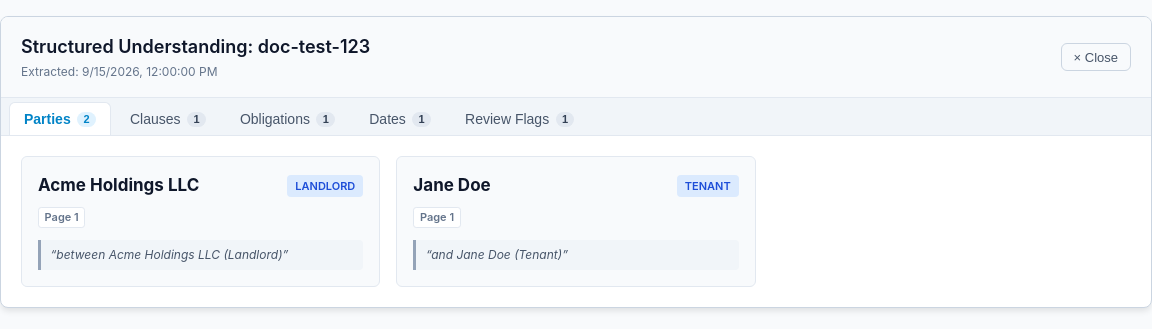
Test: DocumentUnderstandingView Component › switches tabs to Clauses and displays categorized clause cards
Click the tab "Clauses 1": (168, 119) [115, 102, 221, 135]
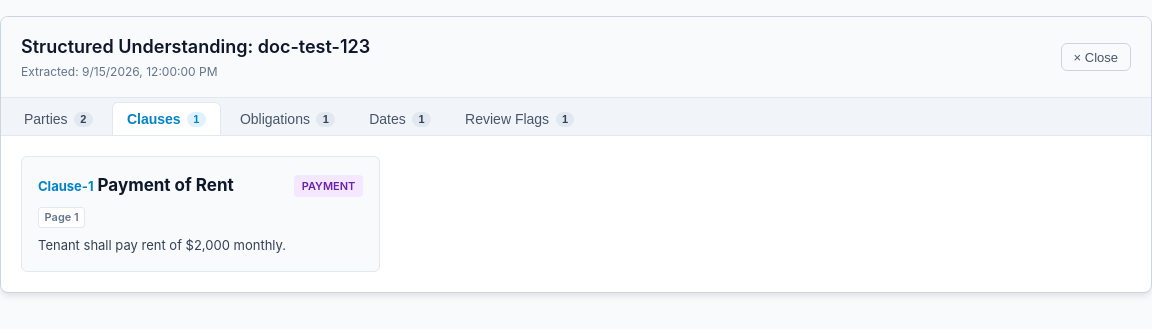
expect the heading "Clause-1 Payment of Rent" is shown: met, box [38, 173, 234, 199]
expect the text "payment" is shown: met, box [294, 175, 363, 197]
expect the text "Tenant shall pay rent of $2,000 monthly." is shown: met, box [38, 237, 286, 253]
